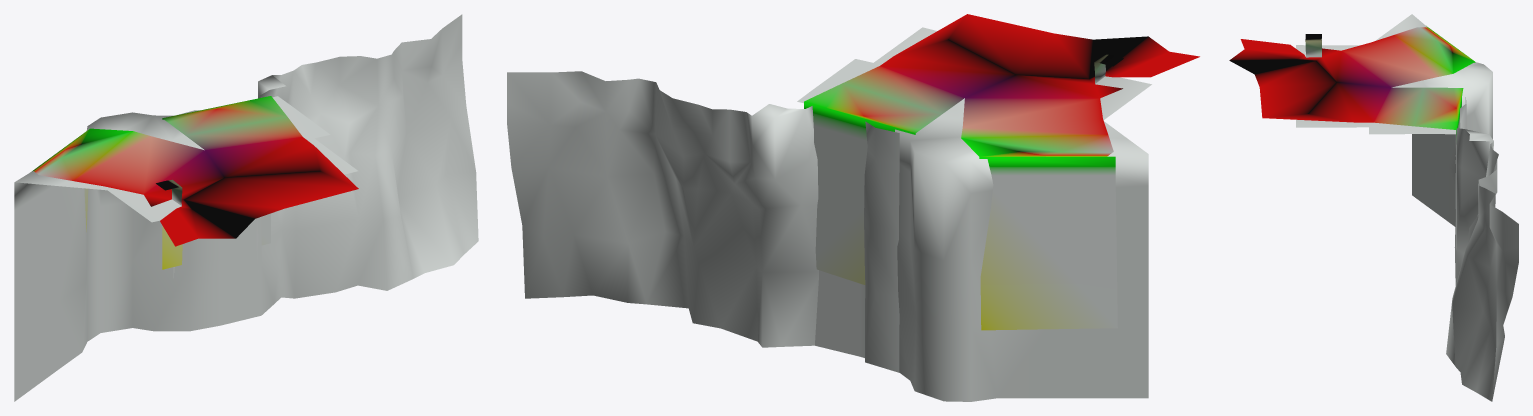
3 views of the same model, side by side, from view 1: azimuth 30°, elevation 25°; view 2: azimuth 150°, elevation 25°; view 3: azimuth 270°, elevation 25° (orthographic). The views are drawn at different scales.
Parts seen in each view (by area): view 1: G:\FFXIV-MapTools\exports\d2t1\bg\ex1\02_dra_d2\twn\d2t1\bgp (×2); view 2: G:\FFXIV-MapTools\exports\d2t1\bg\ex1\02_dra_d2\twn\d2t1\bgp (×2); view 3: G:\FFXIV-MapTools\exports\d2t1\bg\ex1\02_dra_d2\twn\d2t1\bgp (×2).
Part boxes in pixels (<box>): G:\FFXIV-MapTools\exports\d2t1\bg\ex1\02_dra_d2\twn\d2t1\bgp (×2): <box>14,14,478,401</box>; G:\FFXIV-MapTools\exports\d2t1\bg\ex1\02_dra_d2\twn\d2t1\bgp (×2): <box>507,14,1199,401</box>; G:\FFXIV-MapTools\exports\d2t1\bg\ex1\02_dra_d2\twn\d2t1\bgp (×2): <box>1229,14,1518,401</box>.
Bounding box in the file's own units: 964 × 427 × 571.
